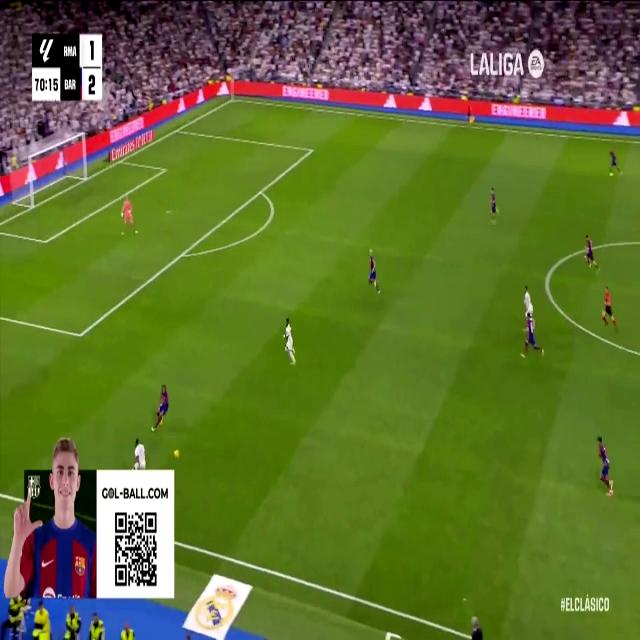bigarea_bottom_inner: (76, 322, 86, 347)
bigarea_top_inner: (307, 142, 315, 158)
bigarea_top_outter: (173, 123, 181, 136)
bottom_arc_area_intersection: (178, 243, 188, 264)
corner: (229, 92, 237, 104)
smallarea_top_inner: (162, 164, 166, 174)
top_arc_area_intersection: (257, 182, 265, 200)
